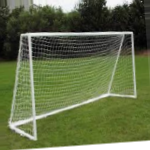goals: (9, 30, 141, 139)
